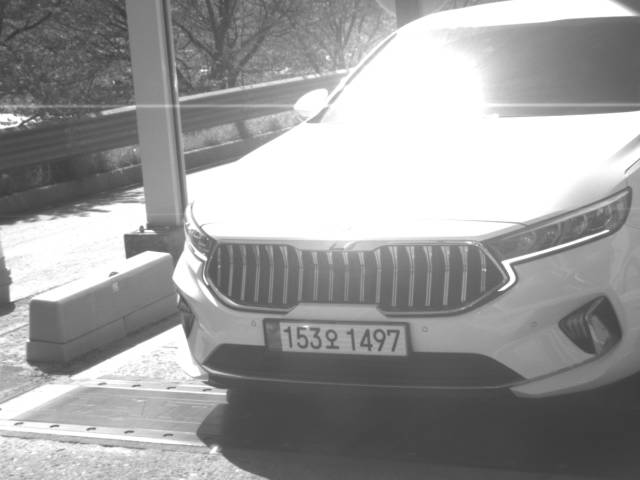car: (169, 1, 640, 402)
plate: (261, 317, 412, 360)
